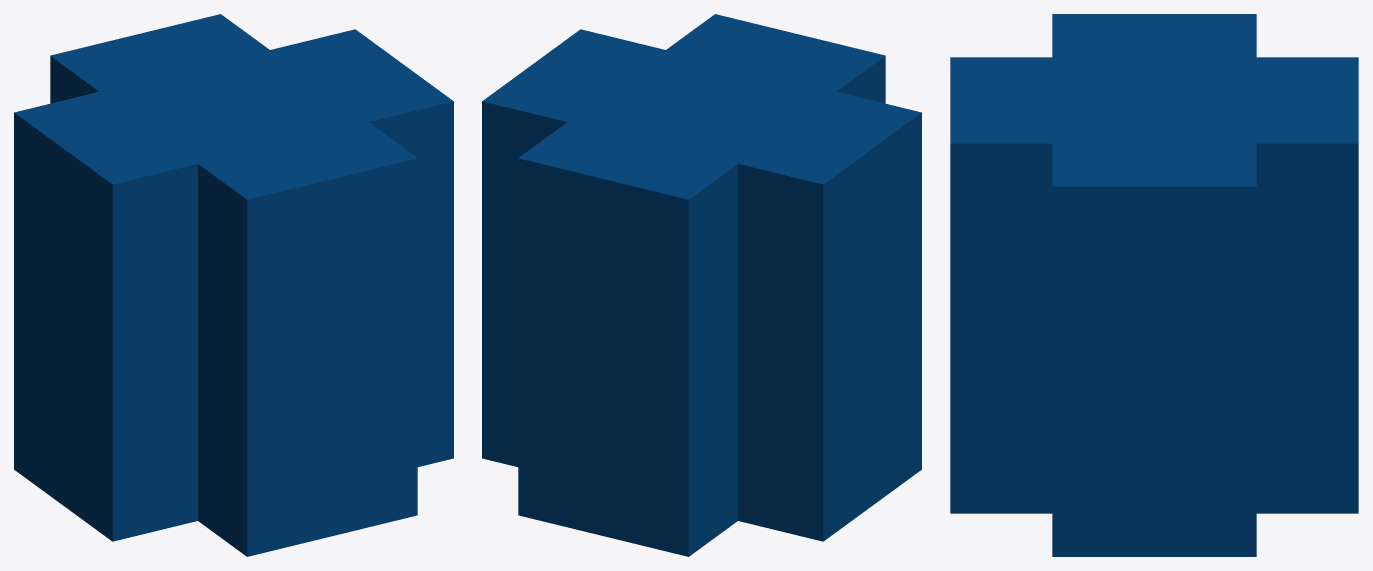
Rendered from cross_3x3.glb.
3 renders of one model, left to right at view 1: azimuth 30°, elevation 25°; view 2: azimuth 150°, elevation 25°; view 3: azimuth 270°, elevation 25°, orthographic. The views are drawn at different scales.
Parts seen in each view (by area): view 1: Cross_3x3; view 2: Cross_3x3; view 3: Cross_3x3.
Part boxes in pixels (x1,y1,x2,y2): Cross_3x3: [14, 14, 453, 556]; Cross_3x3: [482, 14, 921, 556]; Cross_3x3: [950, 14, 1358, 556].
Bounding box in the file's own units: 2 × 2 × 2.
